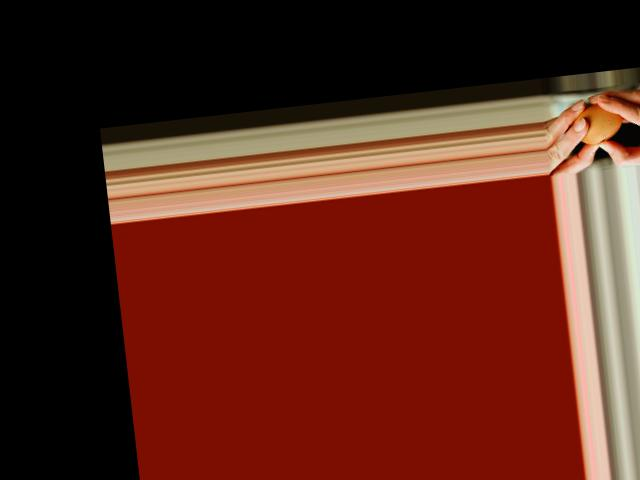egg: (570, 100, 624, 146)
